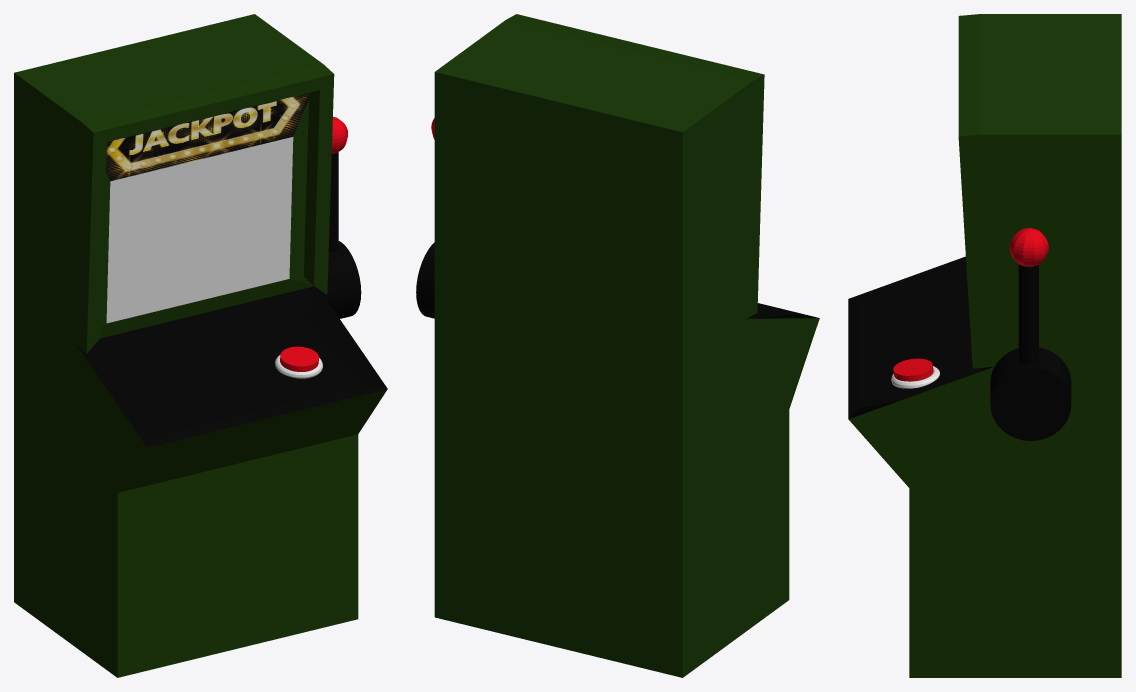
The model's file is Tragaperrasverde.glb.
3 renders of one model, left to right at view 1: azimuth 30°, elevation 25°; view 2: azimuth 150°, elevation 25°; view 3: azimuth 270°, elevation 25°, orthographic. The views are drawn at different scales.
Visible parts, largest first — view 1: Esfera, Cilindro.001, Cilindro.002, Cilindro; view 2: Esfera, Cilindro.001; view 3: Esfera, Cilindro.001, Cilindro.002, Cilindro, Toroide.
Boxes of the visible parts, x1=… form: Esfera: x1=14, y1=14, x2=387, y2=677; Cilindro.001: x1=320, y1=241, x2=361, y2=318; Cilindro.002: x1=328, y1=117, x2=347, y2=252; Cilindro: x1=280, y1=346, x2=318, y2=371; Esfera: x1=434, y1=14, x2=819, y2=677; Cilindro.001: x1=416, y1=242, x2=434, y2=318; Esfera: x1=848, y1=14, x2=1121, y2=677; Cilindro.001: x1=990, y1=347, x2=1071, y2=440; Cilindro.002: x1=1009, y1=228, x2=1048, y2=365; Cilindro: x1=893, y1=358, x2=933, y2=381; Toroide: x1=891, y1=366, x2=939, y2=388.
Size of the model in its own units: 22.07 by 39.03 by 17.77.
7 materials, 1 textured.
